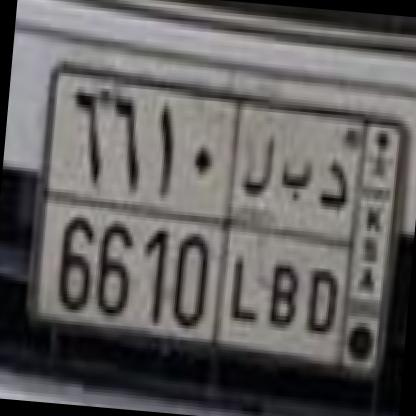english: (21, 184, 364, 370)
